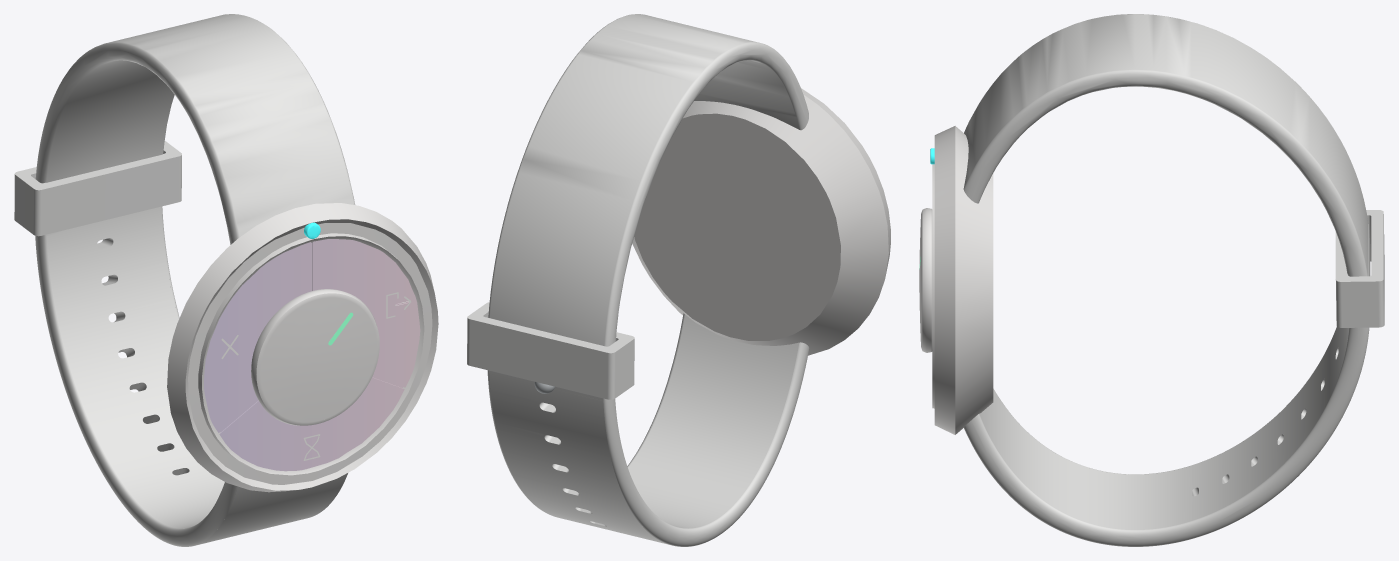
File: floway.glb
3 renders of one model, left to right at view 1: azimuth 30°, elevation 25°; view 2: azimuth 150°, elevation 25°; view 3: azimuth 270°, elevation 25°, orthographic.
Parts seen in each view (by area): view 1: Strap_Upper, Strap_Lower, Faceplate, Housing.001, Dial, Keeper; view 2: Housing.001, Strap_Upper, Strap_Lower, Keeper; view 3: Strap_Upper, Strap_Lower, Housing.001, Keeper, Dial.
Part boxes in pixels (left/top/right/bottom): Strap_Upper: left=35, top=14, right=355, bottom=244; Strap_Lower: left=35, top=206, right=347, bottom=546; Faceplate: left=204, top=239, right=420, bottom=471; Housing.001: left=167, top=203, right=438, bottom=492; Dial: left=251, top=289, right=379, bottom=425; Keeper: left=14, top=140, right=181, bottom=236; Housing.001: left=632, top=88, right=890, bottom=355; Strap_Upper: left=487, top=14, right=808, bottom=401; Strap_Lower: left=487, top=313, right=809, bottom=546; Keeper: left=467, top=302, right=634, bottom=399; Strap_Upper: left=963, top=14, right=1369, bottom=330; Strap_Lower: left=963, top=224, right=1370, bottom=546; Housing.001: left=932, top=126, right=993, bottom=434; Keeper: left=1335, top=210, right=1384, bottom=327; Dial: left=919, top=208, right=932, bottom=352.
Size of the model in its own units: 0.0439 by 0.0746 by 0.0659.
Materials: 8 (1 with a texture image).
